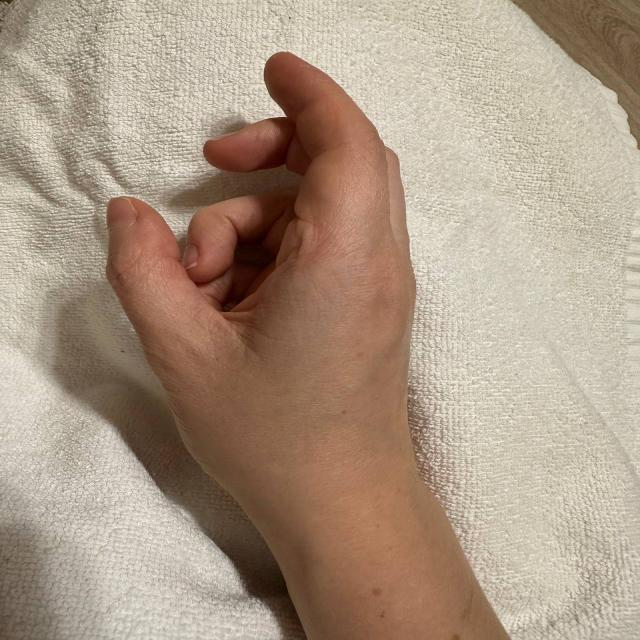b: (96, 39, 453, 454)
